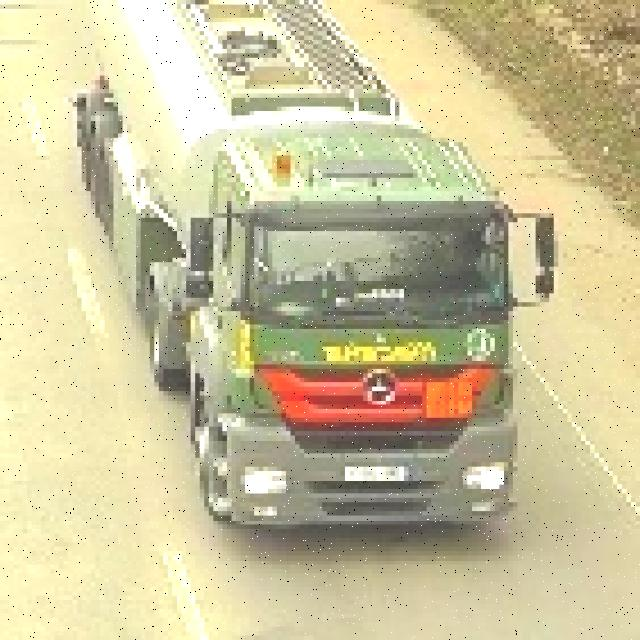truck: (72, 0, 554, 529)
